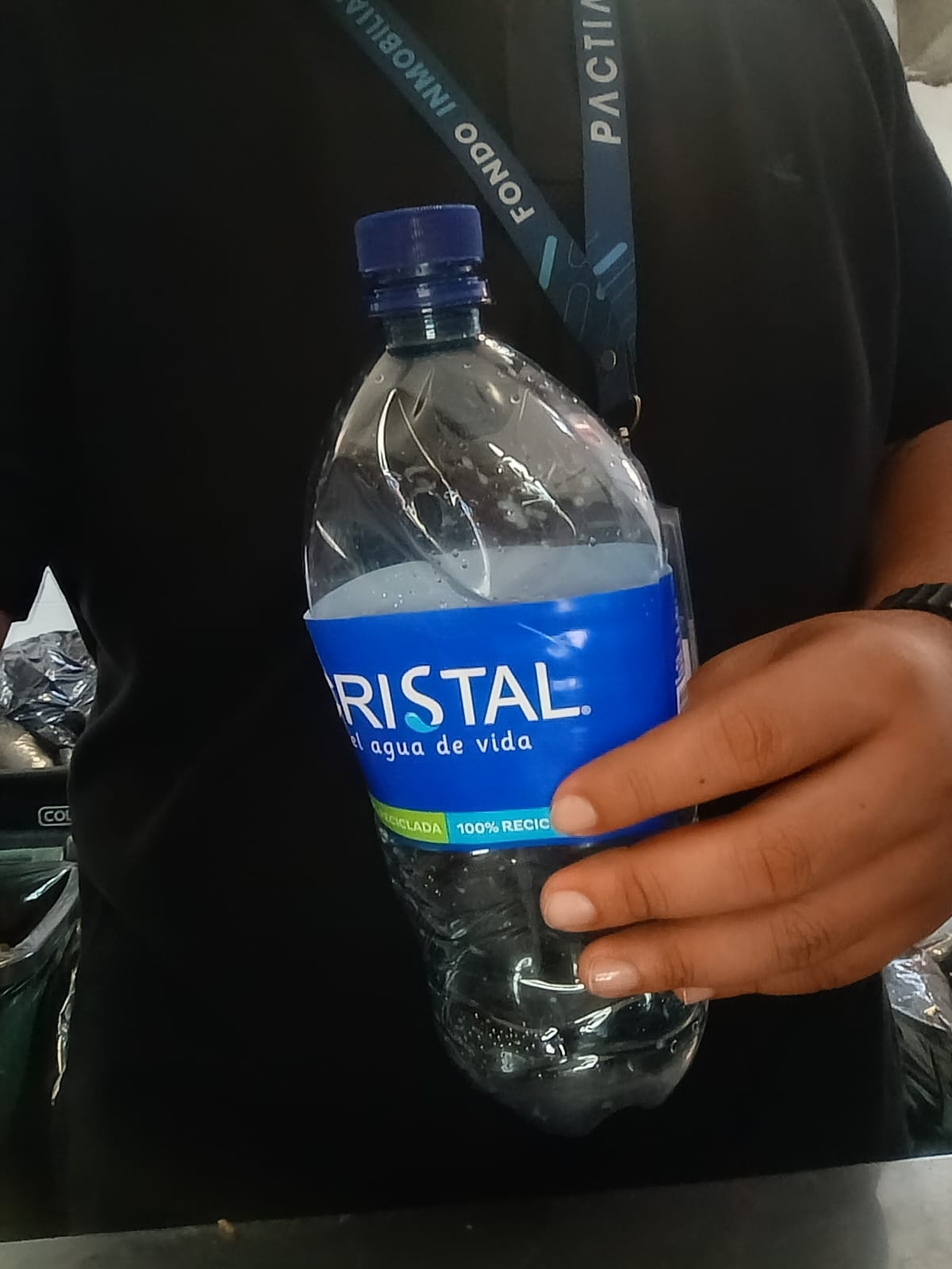Plastico: (303, 204, 715, 1124)
